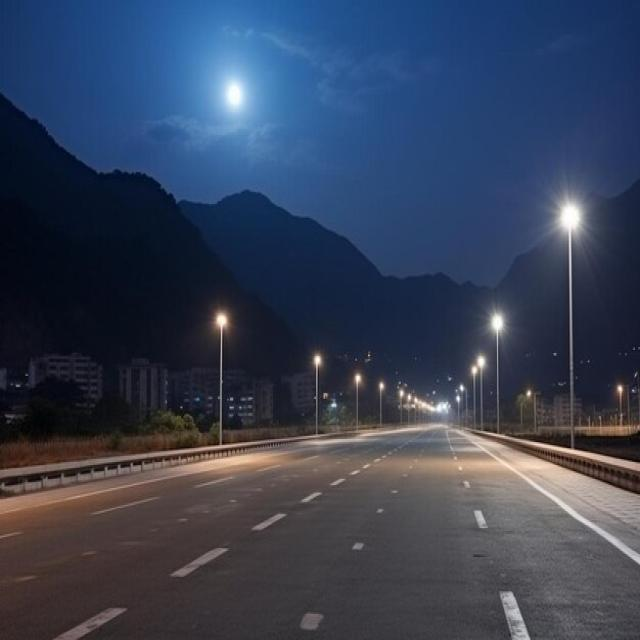streetlight: (556, 195, 585, 251), (408, 392, 452, 416), (208, 308, 232, 344), (485, 307, 510, 341), (518, 386, 544, 412), (610, 378, 630, 405), (309, 349, 328, 374), (468, 360, 484, 384), (471, 352, 488, 373), (452, 391, 468, 413), (348, 369, 362, 392), (454, 380, 468, 398), (396, 386, 408, 404), (374, 378, 385, 397)
